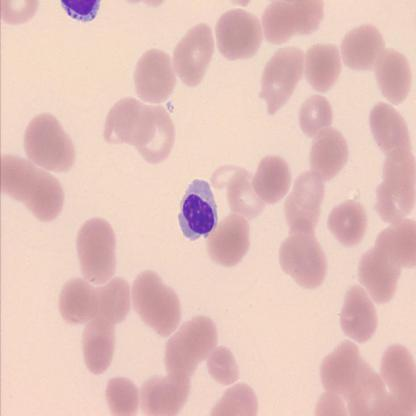NRC: (176, 176, 220, 242)
